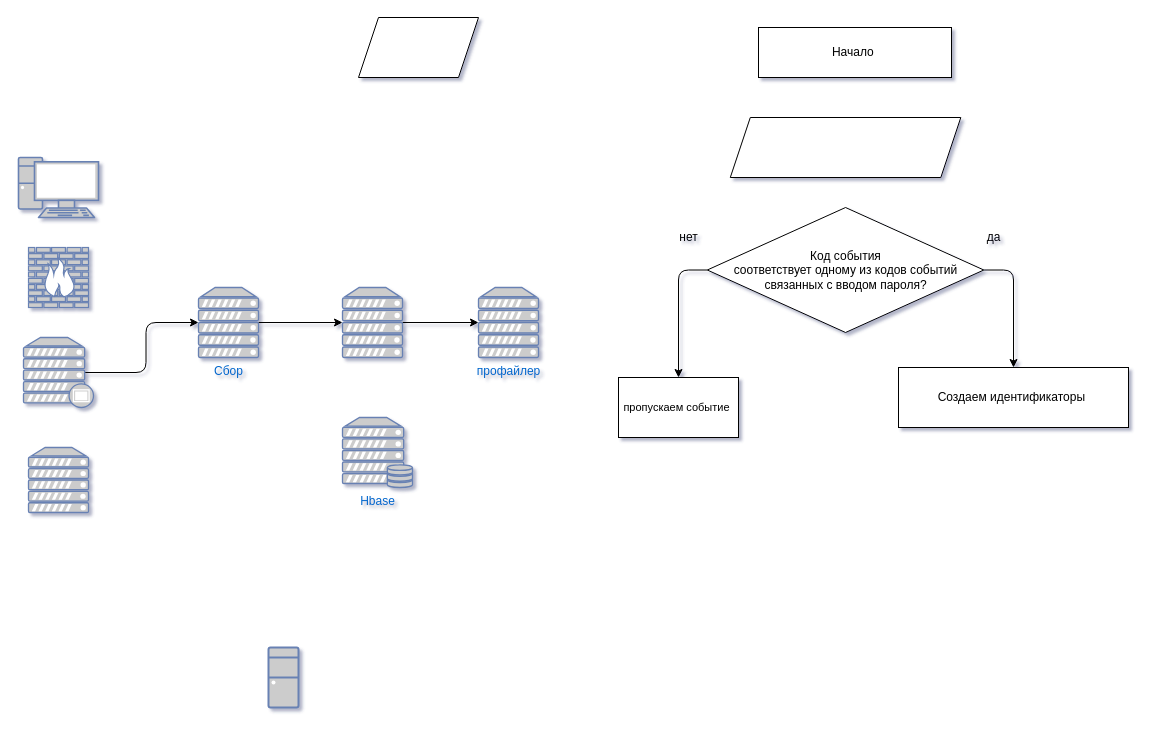
The diagram is 1152 pixels wide and 732 high, and some of its shapes have lost their labels. The shapes that lost their labels are listed below. From the top down, each one's centre as x and y in pixels, then its label:
pixel 845 147: Получение нового события
pixel 372 322: обогащение
pixel 58 479: Linux
